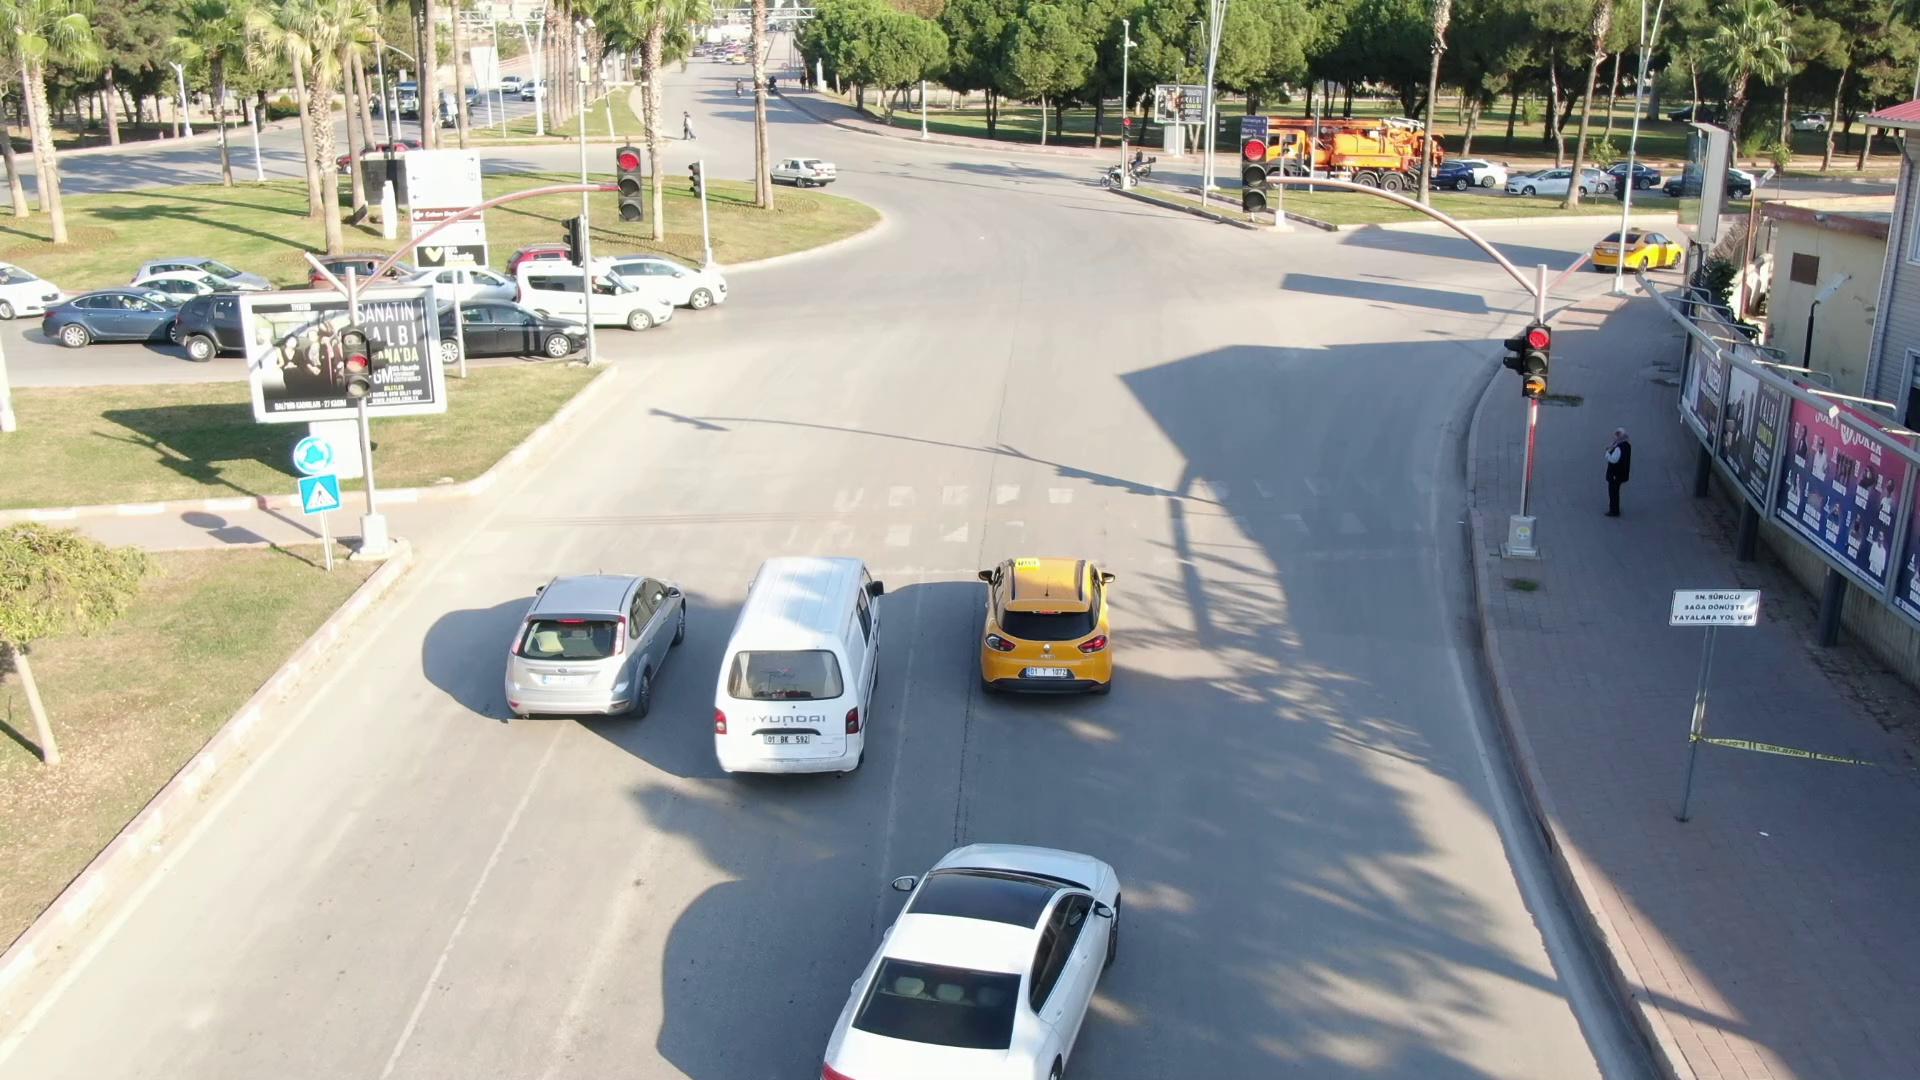car: (808, 837, 1147, 1080), (706, 541, 892, 790), (490, 563, 696, 729), (978, 551, 1119, 700), (514, 253, 668, 331), (421, 300, 594, 361), (590, 255, 727, 310), (1588, 217, 1682, 278), (772, 153, 839, 192)
person: (1600, 427, 1639, 521)
